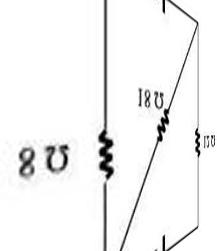resistor: (88, 121, 122, 181), (148, 104, 181, 140)
